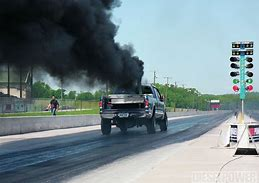smoke: (1, 1, 144, 91)
